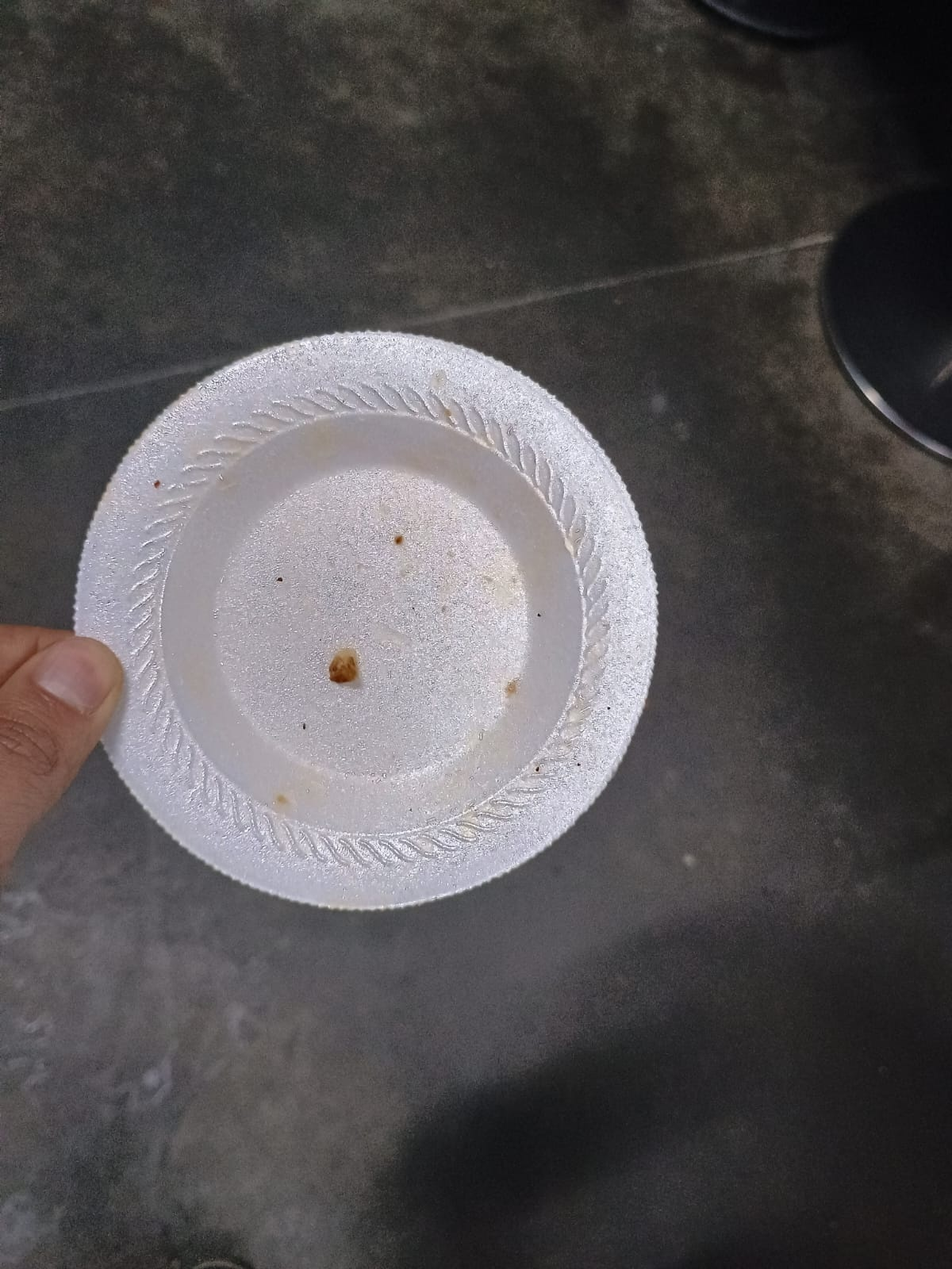Ordinario: (73, 329, 662, 915)
